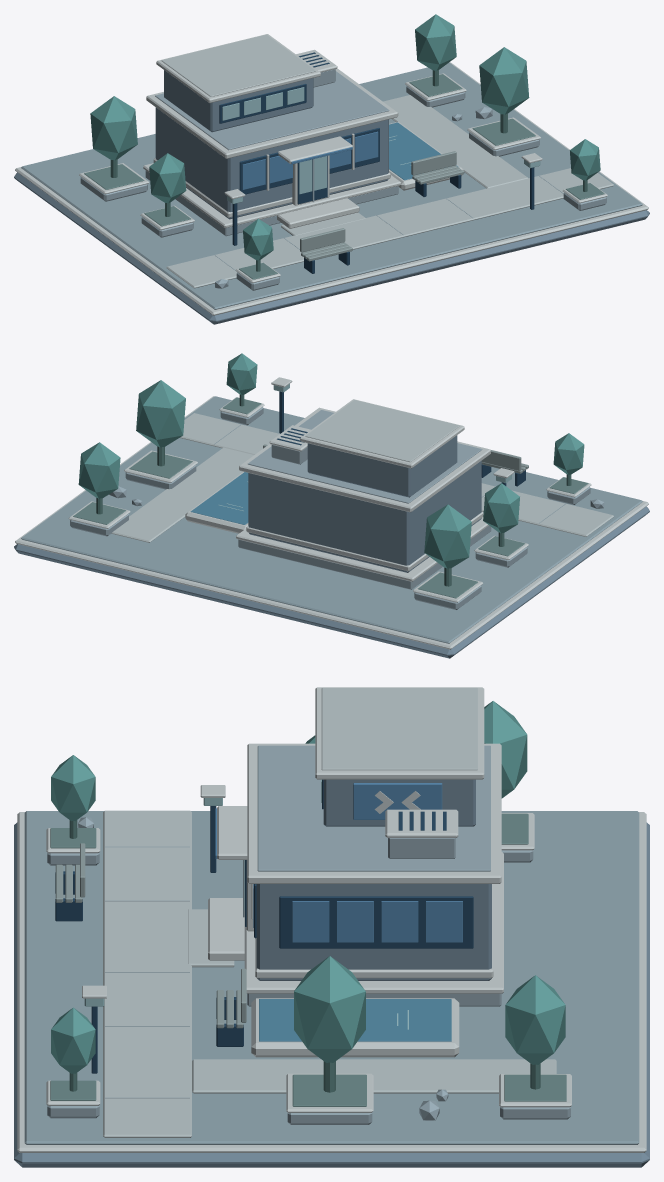
The model's file is campus_home_study_v01.glb.
The picture shows the model from 3 angles, top to bottom: view 1: azimuth 30°, elevation 25°; view 2: azimuth 150°, elevation 25°; view 3: azimuth 270°, elevation 25°; orthographic projection. The views are drawn at different scales.
Visible parts, largest first — view 1: Terrain, Lab, Garden; view 2: Terrain, Lab, Garden; view 3: Terrain, Lab, Garden.
Boxes of the visible parts, left/top/right/bottom form: Terrain: left=14, top=62, right=649, bottom=324; Lab: left=143, top=34, right=401, bottom=236; Garden: left=79, top=14, right=607, bottom=290; Terrain: left=14, top=396, right=649, bottom=658; Lab: left=236, top=399, right=491, bottom=589; Garden: left=68, top=353, right=604, bottom=609; Terrain: left=14, top=810, right=649, bottom=1167; Lab: left=208, top=687, right=503, bottom=1006; Garden: left=46, top=701, right=571, bottom=1124.
Size of the model in its own units: 19 by 5.65 by 15.
